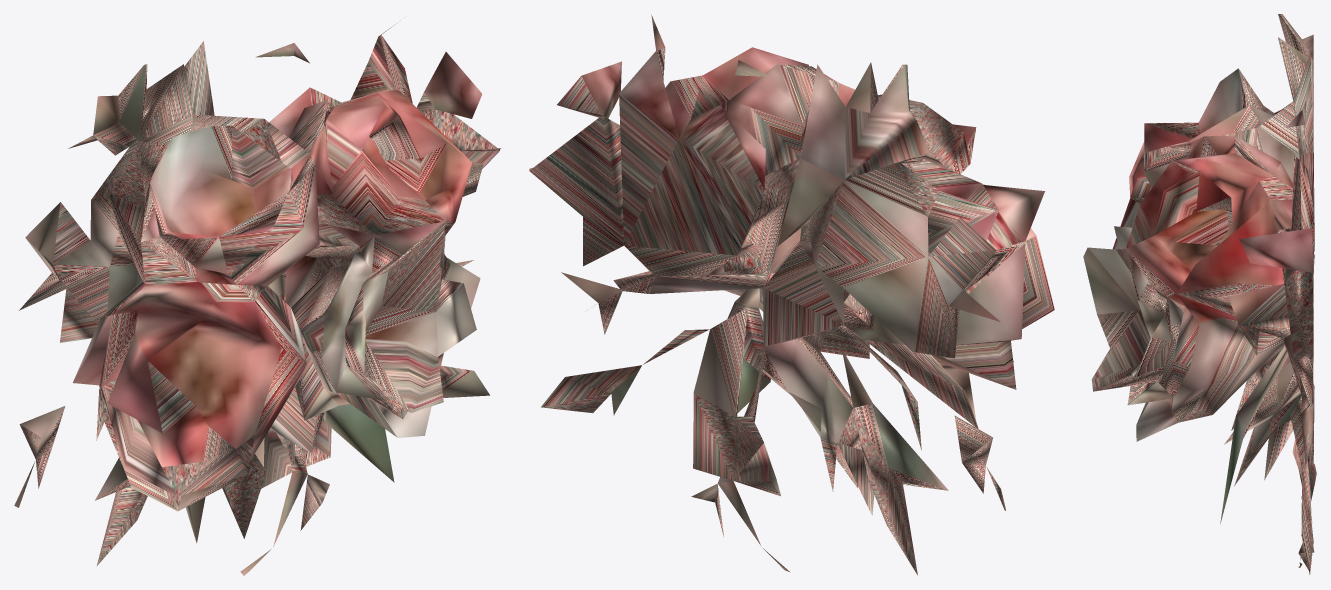
3 views of the same model, side by side, from view 1: azimuth 30°, elevation 25°; view 2: azimuth 150°, elevation 25°; view 3: azimuth 270°, elevation 25° (orthographic). The views are drawn at different scales.
Visible parts, largest first — view 1: Rose-Bouquet-10-29; view 2: Rose-Bouquet-10-29; view 3: Rose-Bouquet-10-29.
Boxes of the visible parts, box(x1,y1,x2,y2) form: Rose-Bouquet-10-29: box(14, 20, 500, 575); Rose-Bouquet-10-29: box(529, 14, 1054, 575); Rose-Bouquet-10-29: box(1083, 14, 1316, 574).
Size of the model in its own units: 0.2904 by 0.3085 by 0.1293.
1 material, 1 textured.
